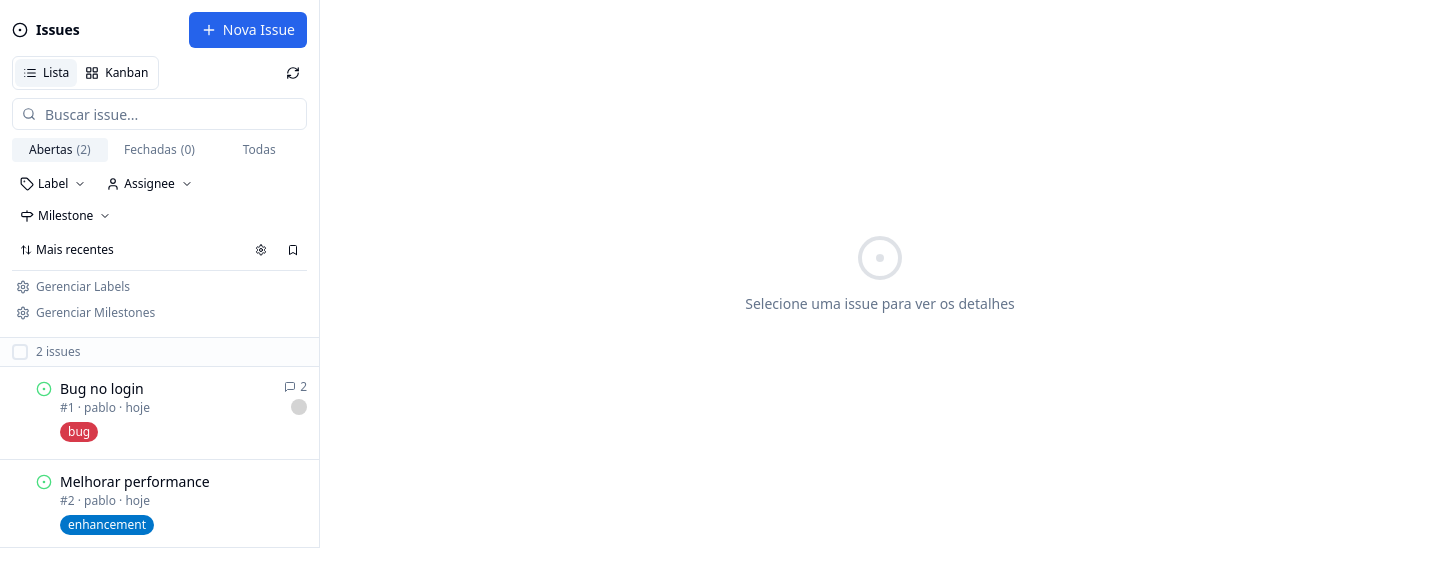
Test: IssuesManager › fechar e reabrir issue › spinner aparece enquanto fechando issue
Click the text "Bug no login" at point(102, 389), box 60,379 -> 144,398
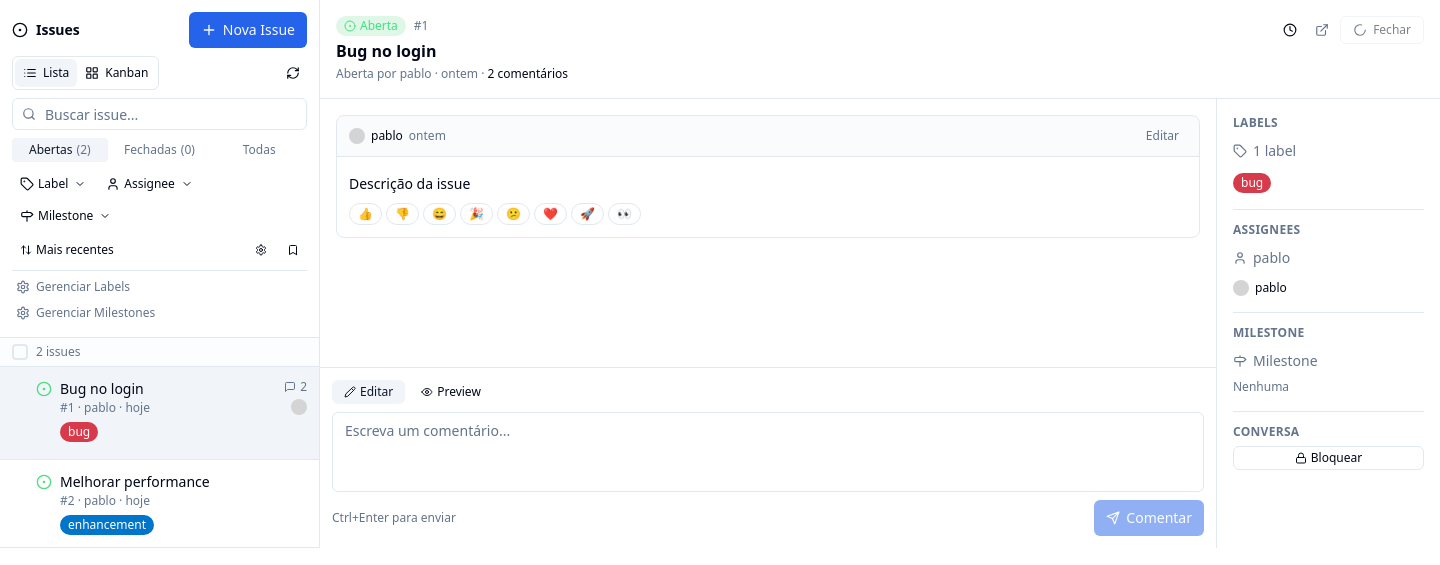
Now the button "Fechar" is disabled, box 1340,16 -> 1424,44
